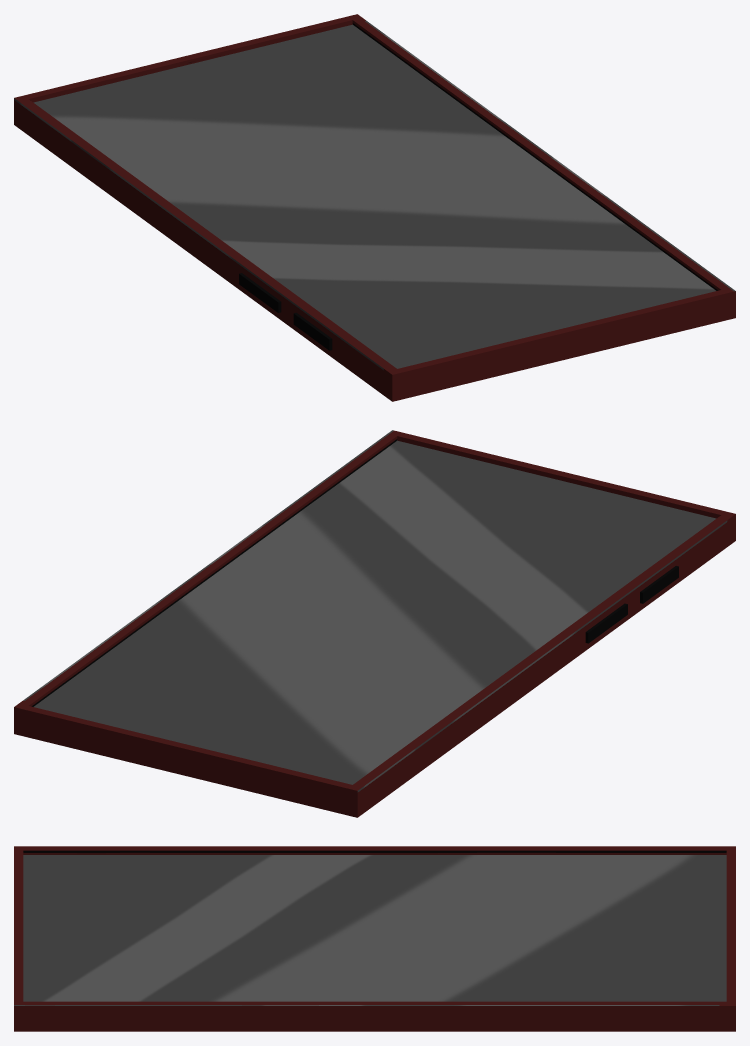
Rendered from Phone.fbx.
3 renders of one model, top to bottom at view 1: azimuth 30°, elevation 25°; view 2: azimuth 150°, elevation 25°; view 3: azimuth 270°, elevation 25°, orthographic. The views are drawn at different scales.
Parts seen in each view (by area): view 1: Cell; view 2: Cell; view 3: Cell.
Part boxes in pixels (x1,y1,x2,y2): Cell: (14,14,735,401); Cell: (14,430,735,817); Cell: (14,846,735,1031).
Size of the model in its own units: 11.8 by 1.04 by 22.31.
